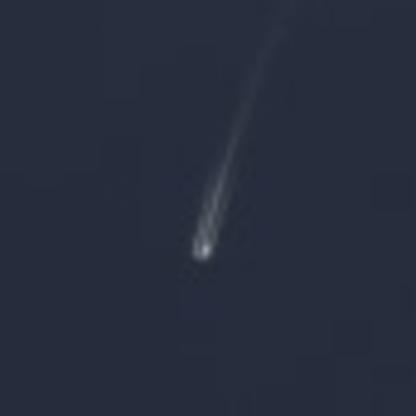ship: (180, 219, 228, 268)
